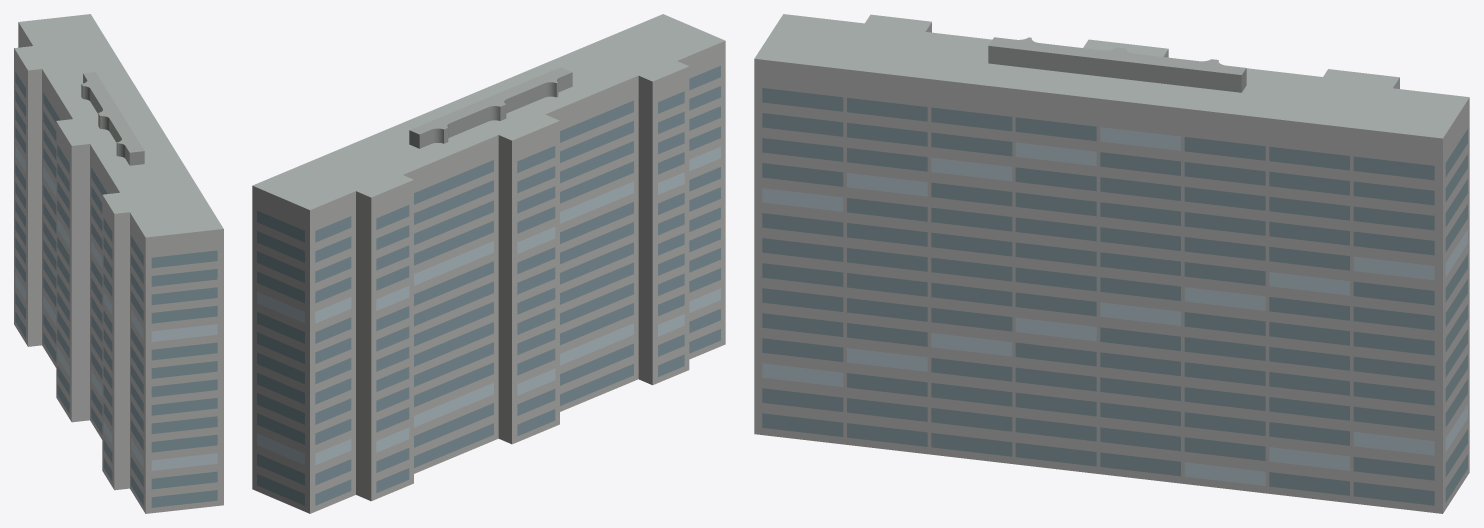
The model's file is apt-a13120001.glb.
3 views of the same model, side by side, from view 1: azimuth 30°, elevation 25°; view 2: azimuth 150°, elevation 25°; view 3: azimuth 270°, elevation 25° (orthographic). The views are drawn at different scales.
Parts seen in each view (by area): view 1: apt-a13120001; view 2: apt-a13120001; view 3: apt-a13120001.
Boxes of the visible parts, x1=… form: apt-a13120001: x1=14, y1=14, x2=223, y2=513; apt-a13120001: x1=252, y1=14, x2=725, y2=513; apt-a13120001: x1=754, y1=14, x2=1469, y2=513.
Bounding box in the file's own units: 28.55 × 42 × 69.27.
